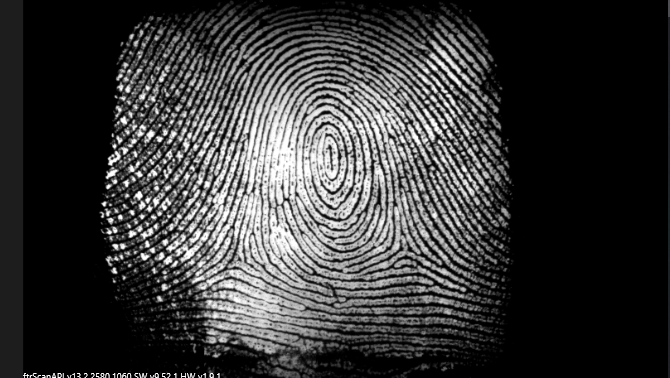deltas: (379, 226, 431, 276), (213, 230, 264, 279)
nucleo: (312, 134, 346, 181)
